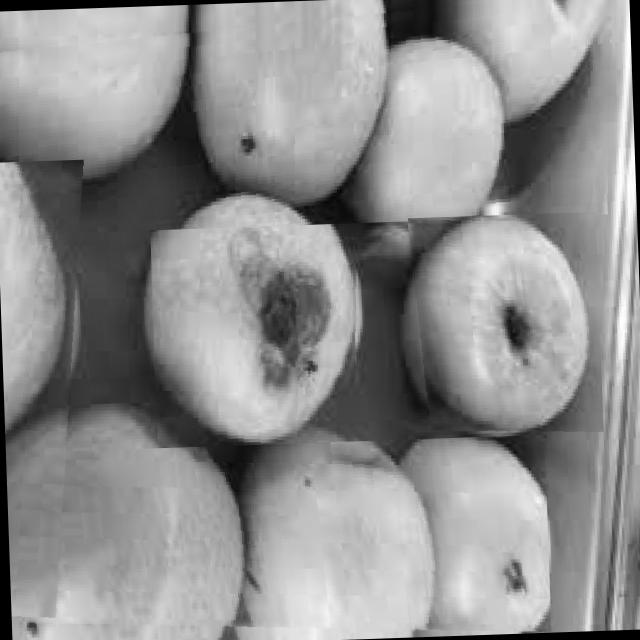Organic: (0, 0, 614, 235), (4, 434, 550, 640), (147, 162, 366, 456), (0, 159, 98, 619), (406, 212, 602, 438)
